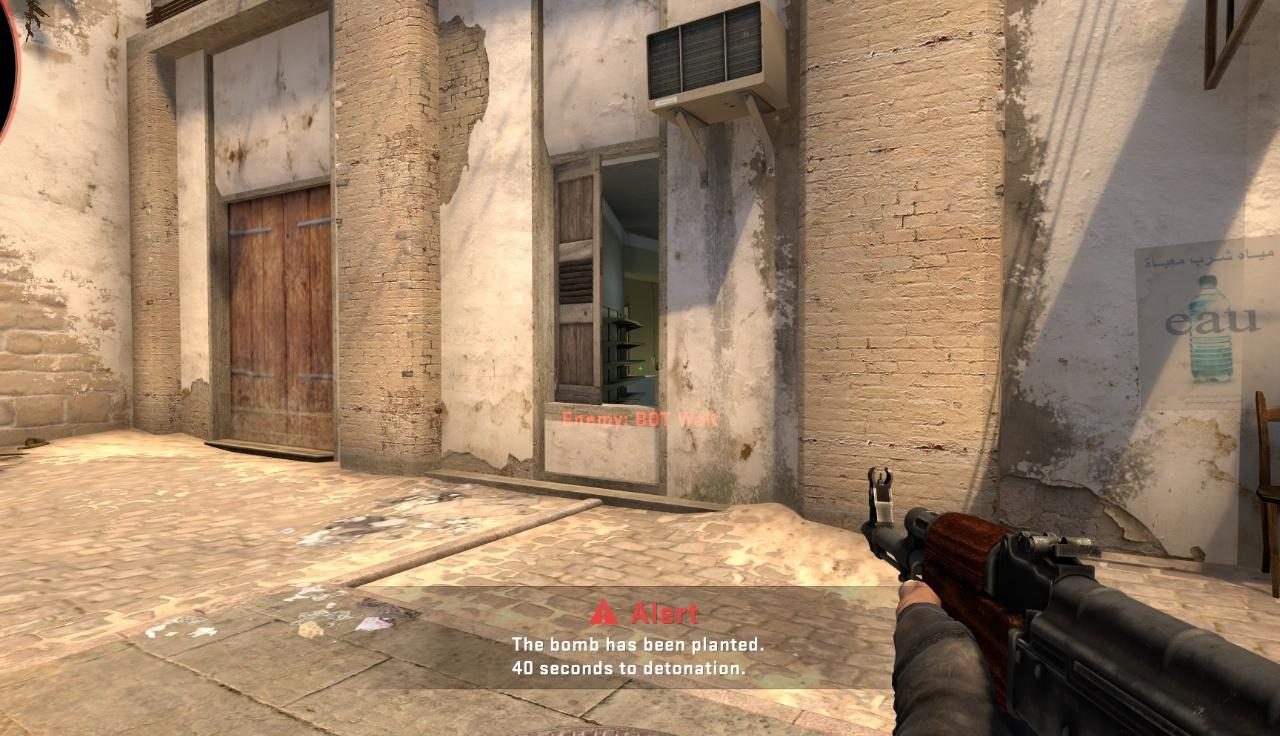rifle: (860, 464, 1280, 736)
